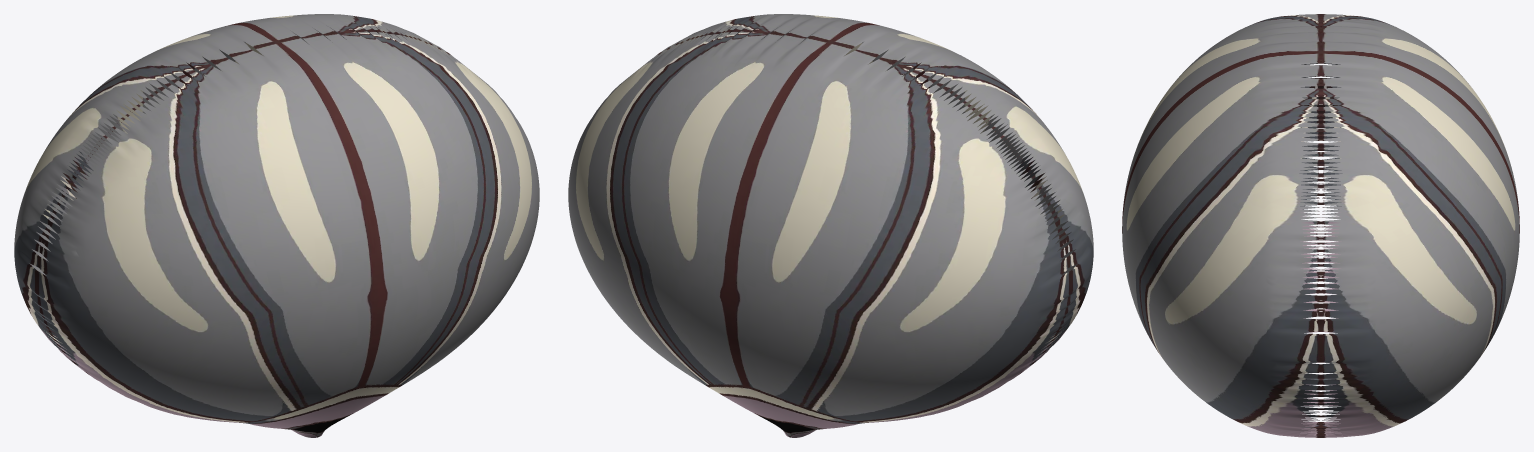
Rendered from domed_hatch.glb.
The picture shows the model from 3 angles, left to right: view 1: azimuth 30°, elevation 25°; view 2: azimuth 150°, elevation 25°; view 3: azimuth 270°, elevation 25°; orthographic projection.
Visible parts, largest first — view 1: domed_hatch; view 2: domed_hatch; view 3: domed_hatch.
Part boxes in pixels (left/top/right/bottom): domed_hatch: left=14, top=14, right=539, bottom=437; domed_hatch: left=568, top=14, right=1093, bottom=437; domed_hatch: left=1122, top=14, right=1519, bottom=437.
Size of the model in its own units: 0.9889 by 0.7216 by 0.7161.
1 material, 1 textured.
